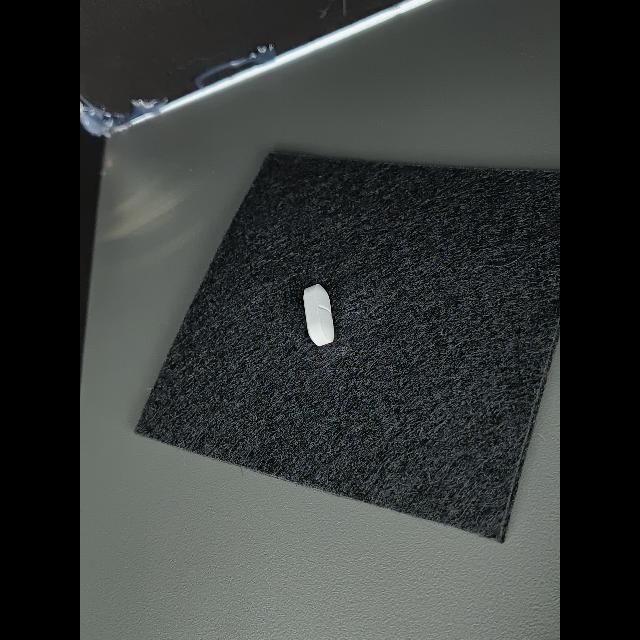Intact Pill: (304, 284, 334, 346)
